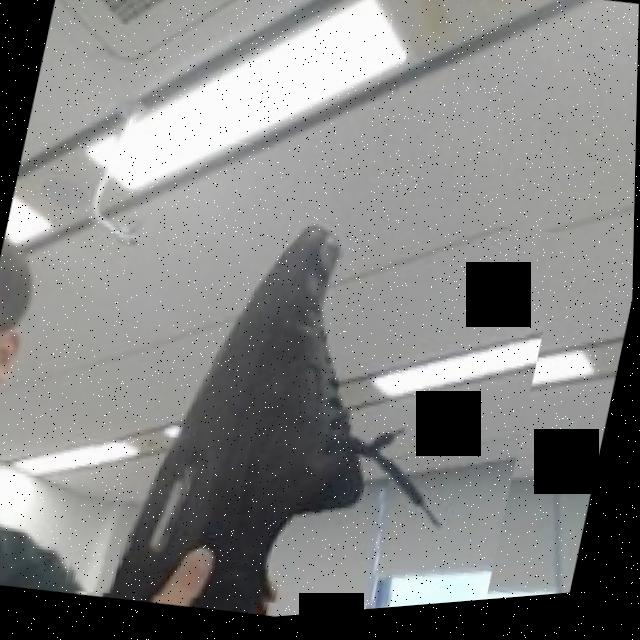shoe: (60, 161, 567, 635)
